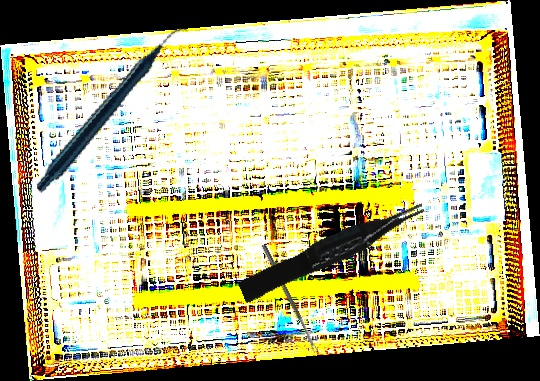Handpiece: (8, 24, 218, 195)
Surgical Spoon: (261, 243, 318, 354)
Tissue Forceps: (234, 198, 432, 304)
